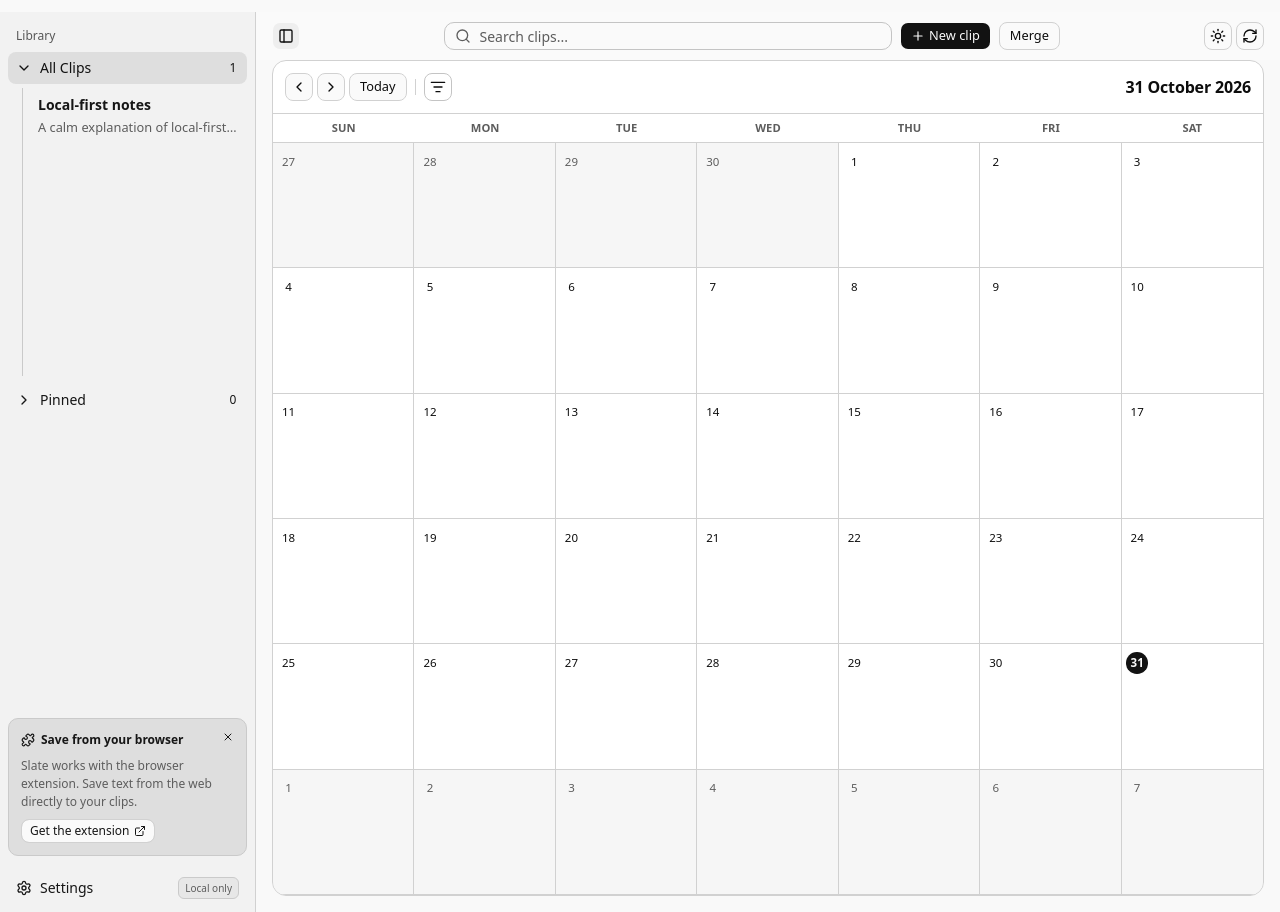
App › manual refresh clears previous success even when the refresh fails
Click the button "A calm explanation of local-first software.": (138, 116) [29,88,247,144]
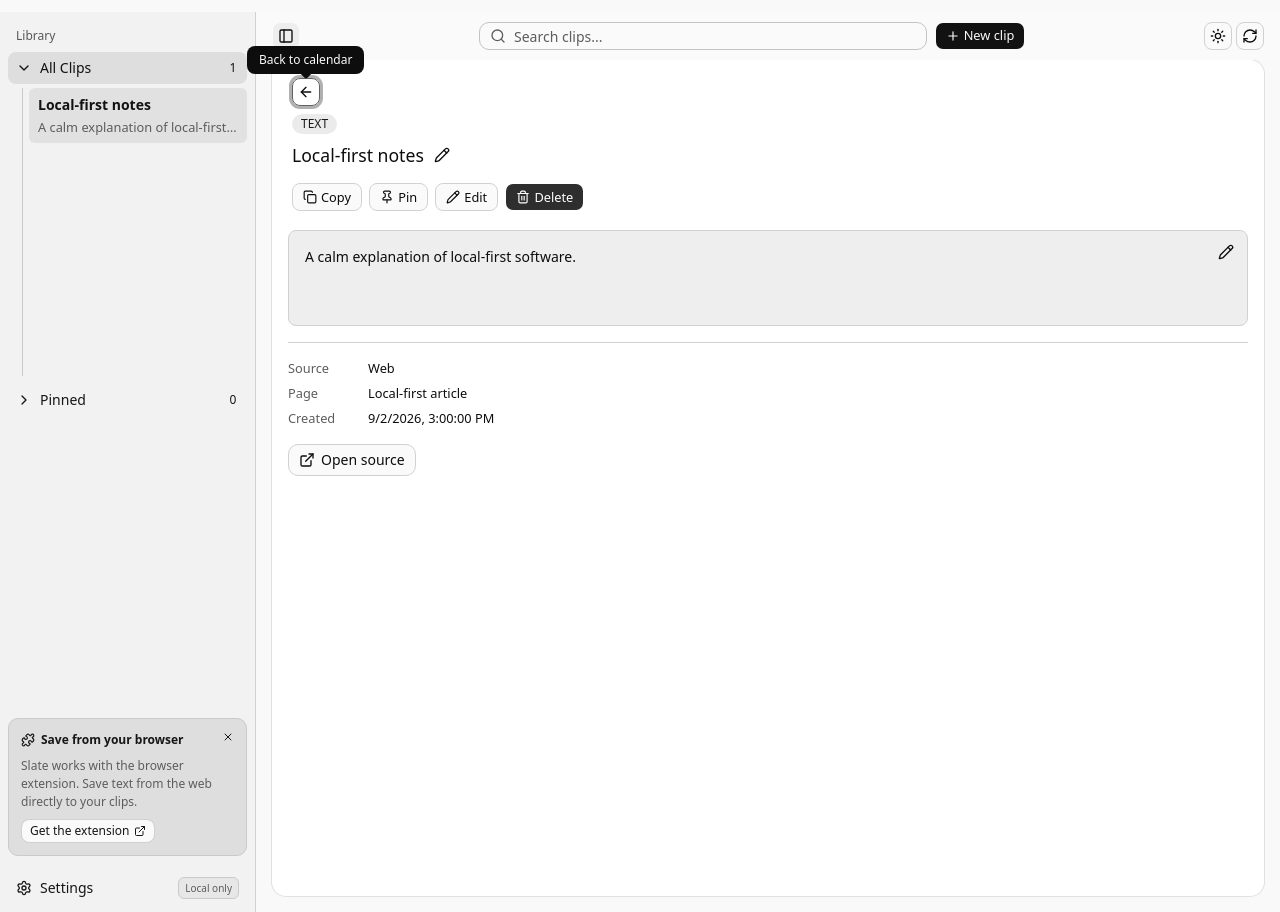
Click the button "Copy": (327, 197) [292,183,362,211]
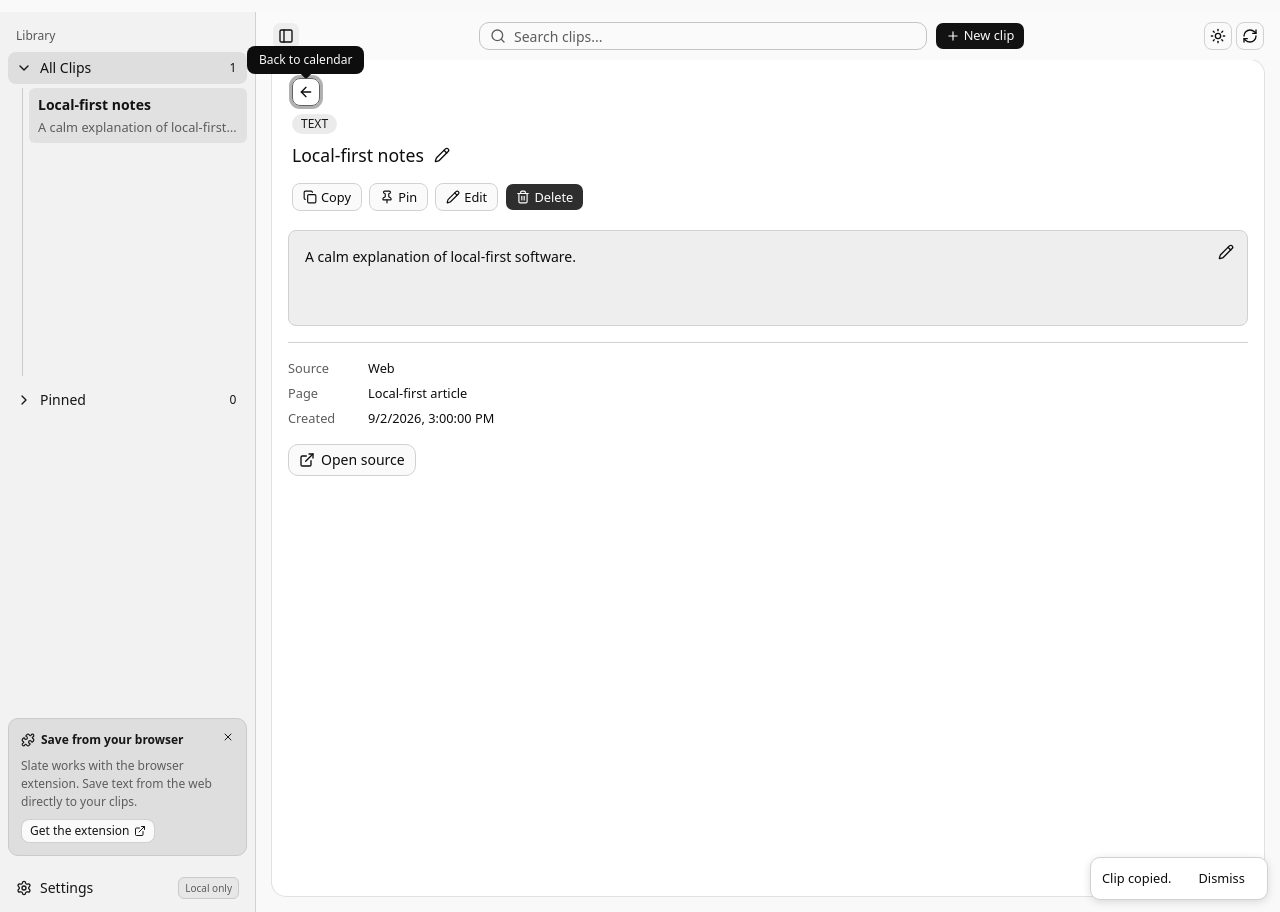
Now the text "Clip copied." is shown, box [1102,869,1172,887]
Click the button named "Refresh": (1250, 36) [1236,22,1264,50]
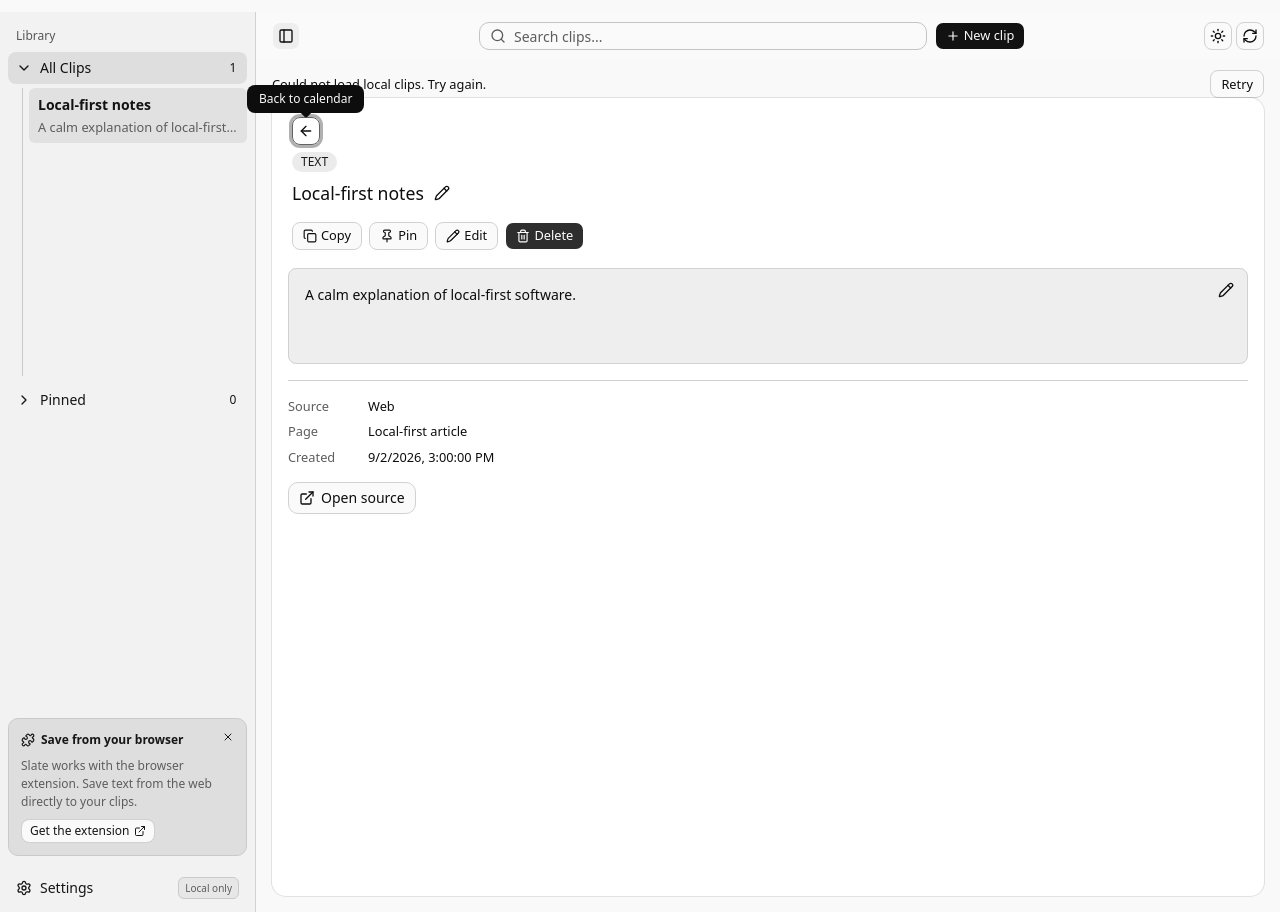
Now the text "Could not load local clips. Try again." is shown, box [272,75,486,93]
Now the text "Clip copied." is gone
